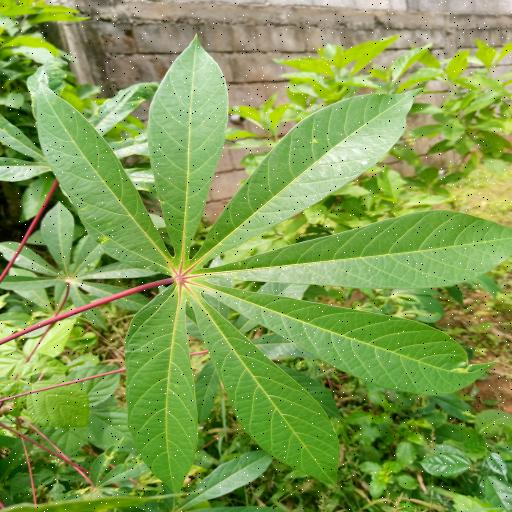Cassava_Healthy: (28, 32, 512, 498)
